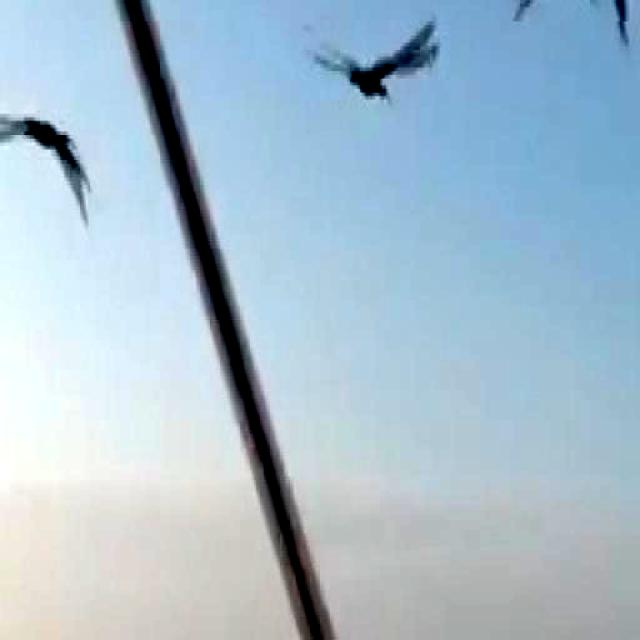airplane: (316, 10, 454, 122), (492, 0, 636, 42)
